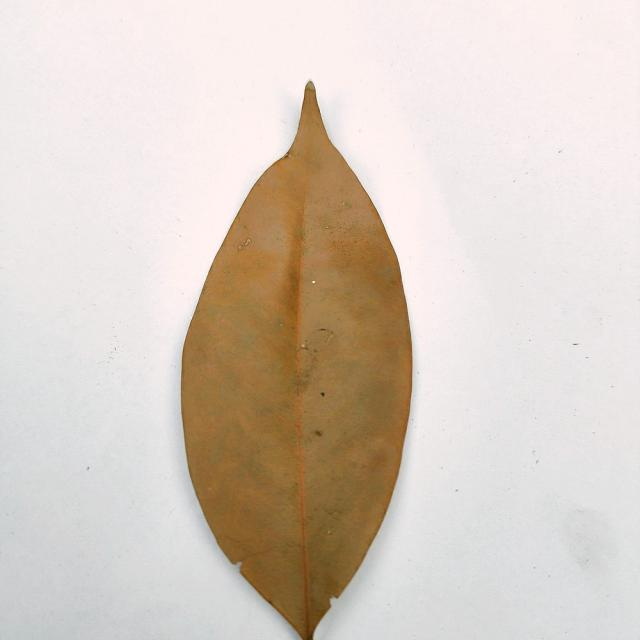Dry_Leaf-Lychee: (179, 83, 414, 639)
